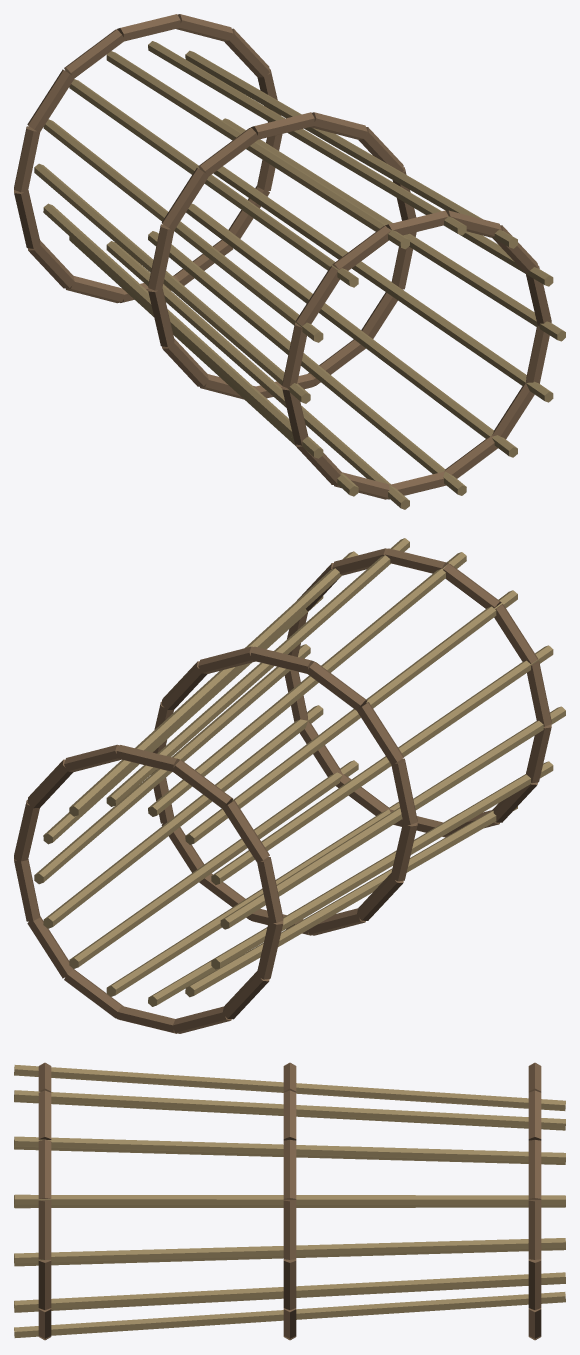
The model's file is thai_trap.glb.
The picture shows the model from 3 angles, top to bottom: view 1: azimuth 30°, elevation 25°; view 2: azimuth 150°, elevation 25°; view 3: azimuth 270°, elevation 25°; orthographic projection. The views are drawn at different scales.
Visible parts, largest first — view 1: thai_trap; view 2: thai_trap; view 3: thai_trap.
Boxes of the visible parts, x1,y1,x2,y2 form: thai_trap: (14,14,565,509); thai_trap: (14,538,565,1033); thai_trap: (14,1062,565,1340).
Bounding box in the file's own units: 0.4634 × 0.453 × 0.9012.
